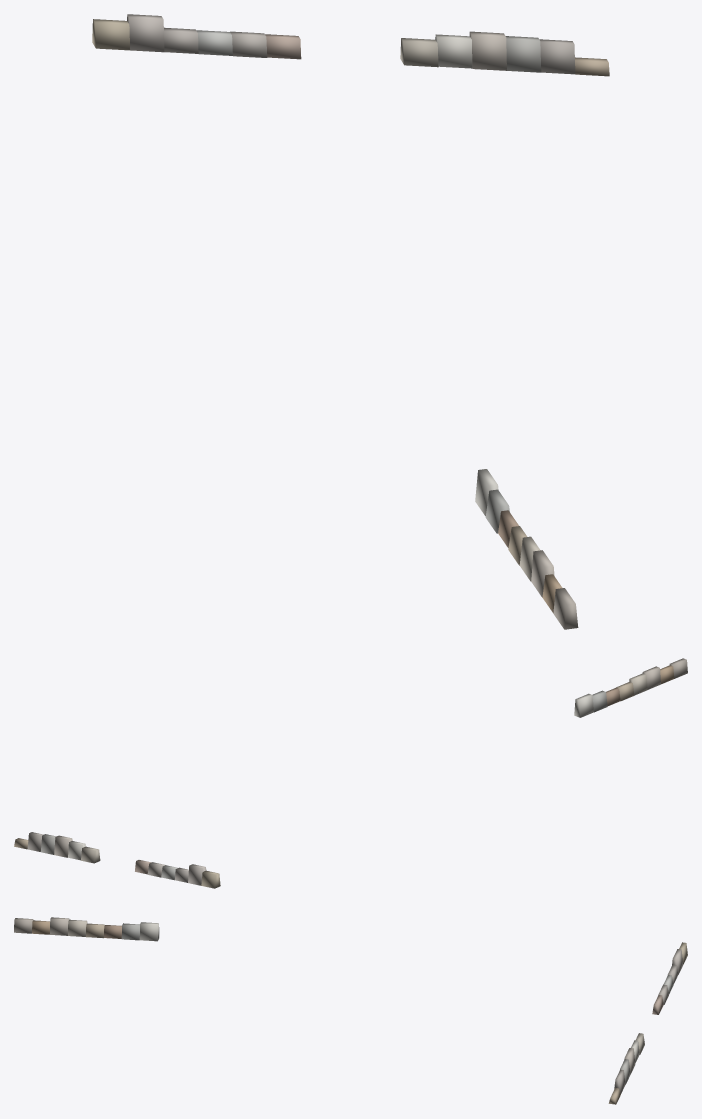
File: farm_16_2_collision.glb
3 views of the same model, one above another, from view 1: azimuth 30°, elevation 25°; view 2: azimuth 150°, elevation 25°; view 3: azimuth 270°, elevation 25° (orthographic). The views are drawn at different scales.
Parts seen in each view (by area): view 1: geometry_0; view 2: geometry_0; view 3: geometry_0.
Part boxes in pixels (x1,y1,x2,y2): geometry_0: (92,14,609,629); geometry_0: (14,658,687,888); geometry_0: (14,917,687,1104).
Size of the model in its own units: 31.94 by 5.17 by 58.07.
